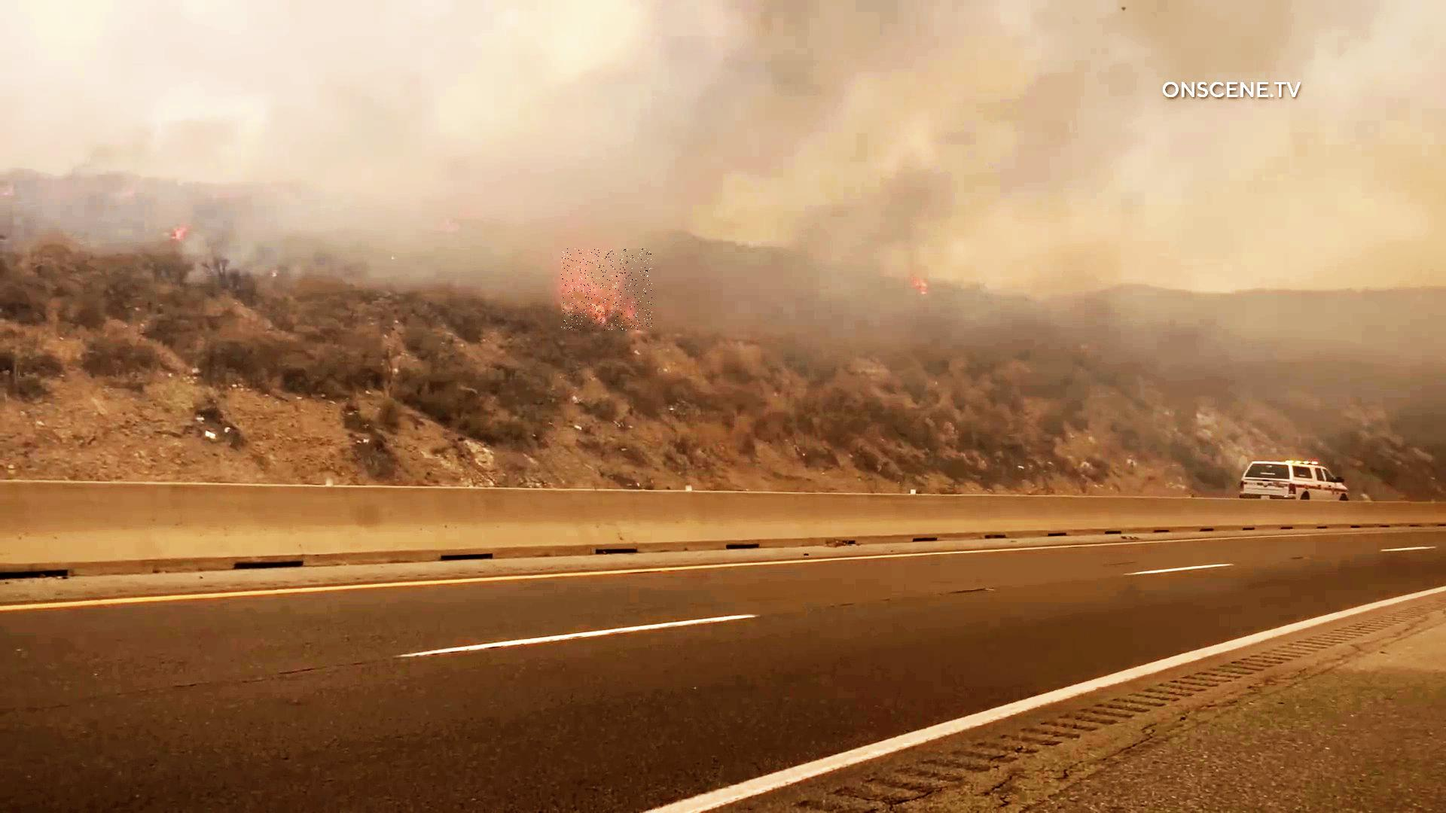fire: (562, 248, 653, 330)
